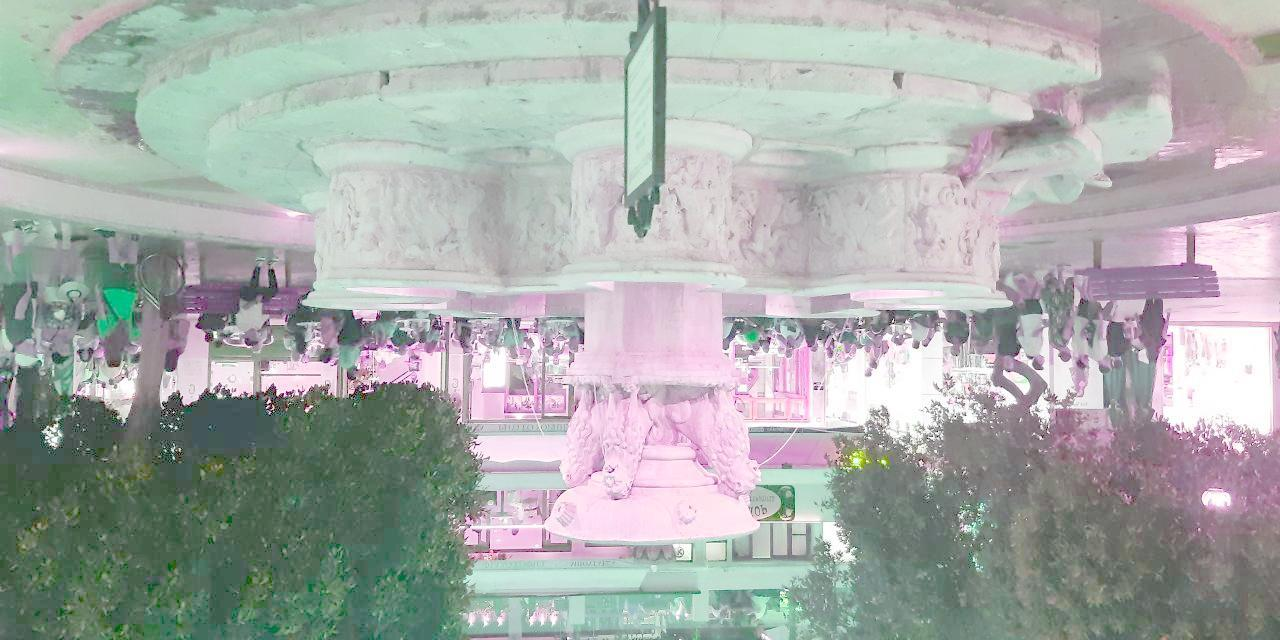Liontaria: (303, 121, 1014, 549)
